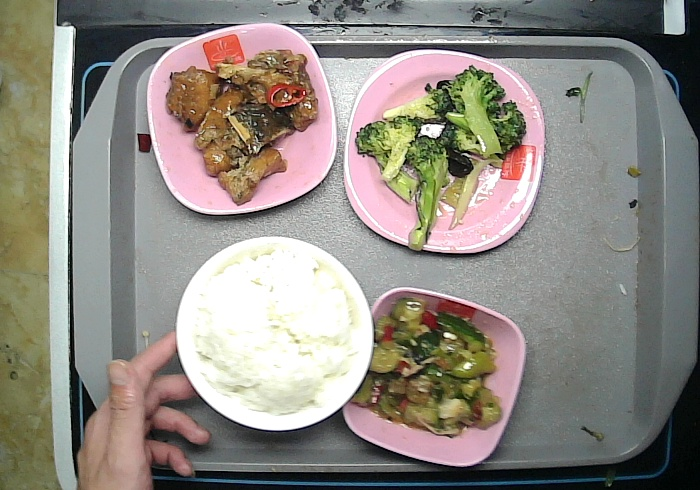SHKJ-Fan_Wan: (172, 231, 379, 436)
SHKJ-Fen_Se_Cai_Die: (143, 19, 343, 219)
SHKJ-Fen_Se_Si_Fang_Cai_Die: (339, 47, 551, 258)
SHKJ-Fen_Se_Xiao_Fang_Die: (339, 283, 530, 469)
